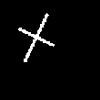single_crochet: (18, 14, 53, 61)
